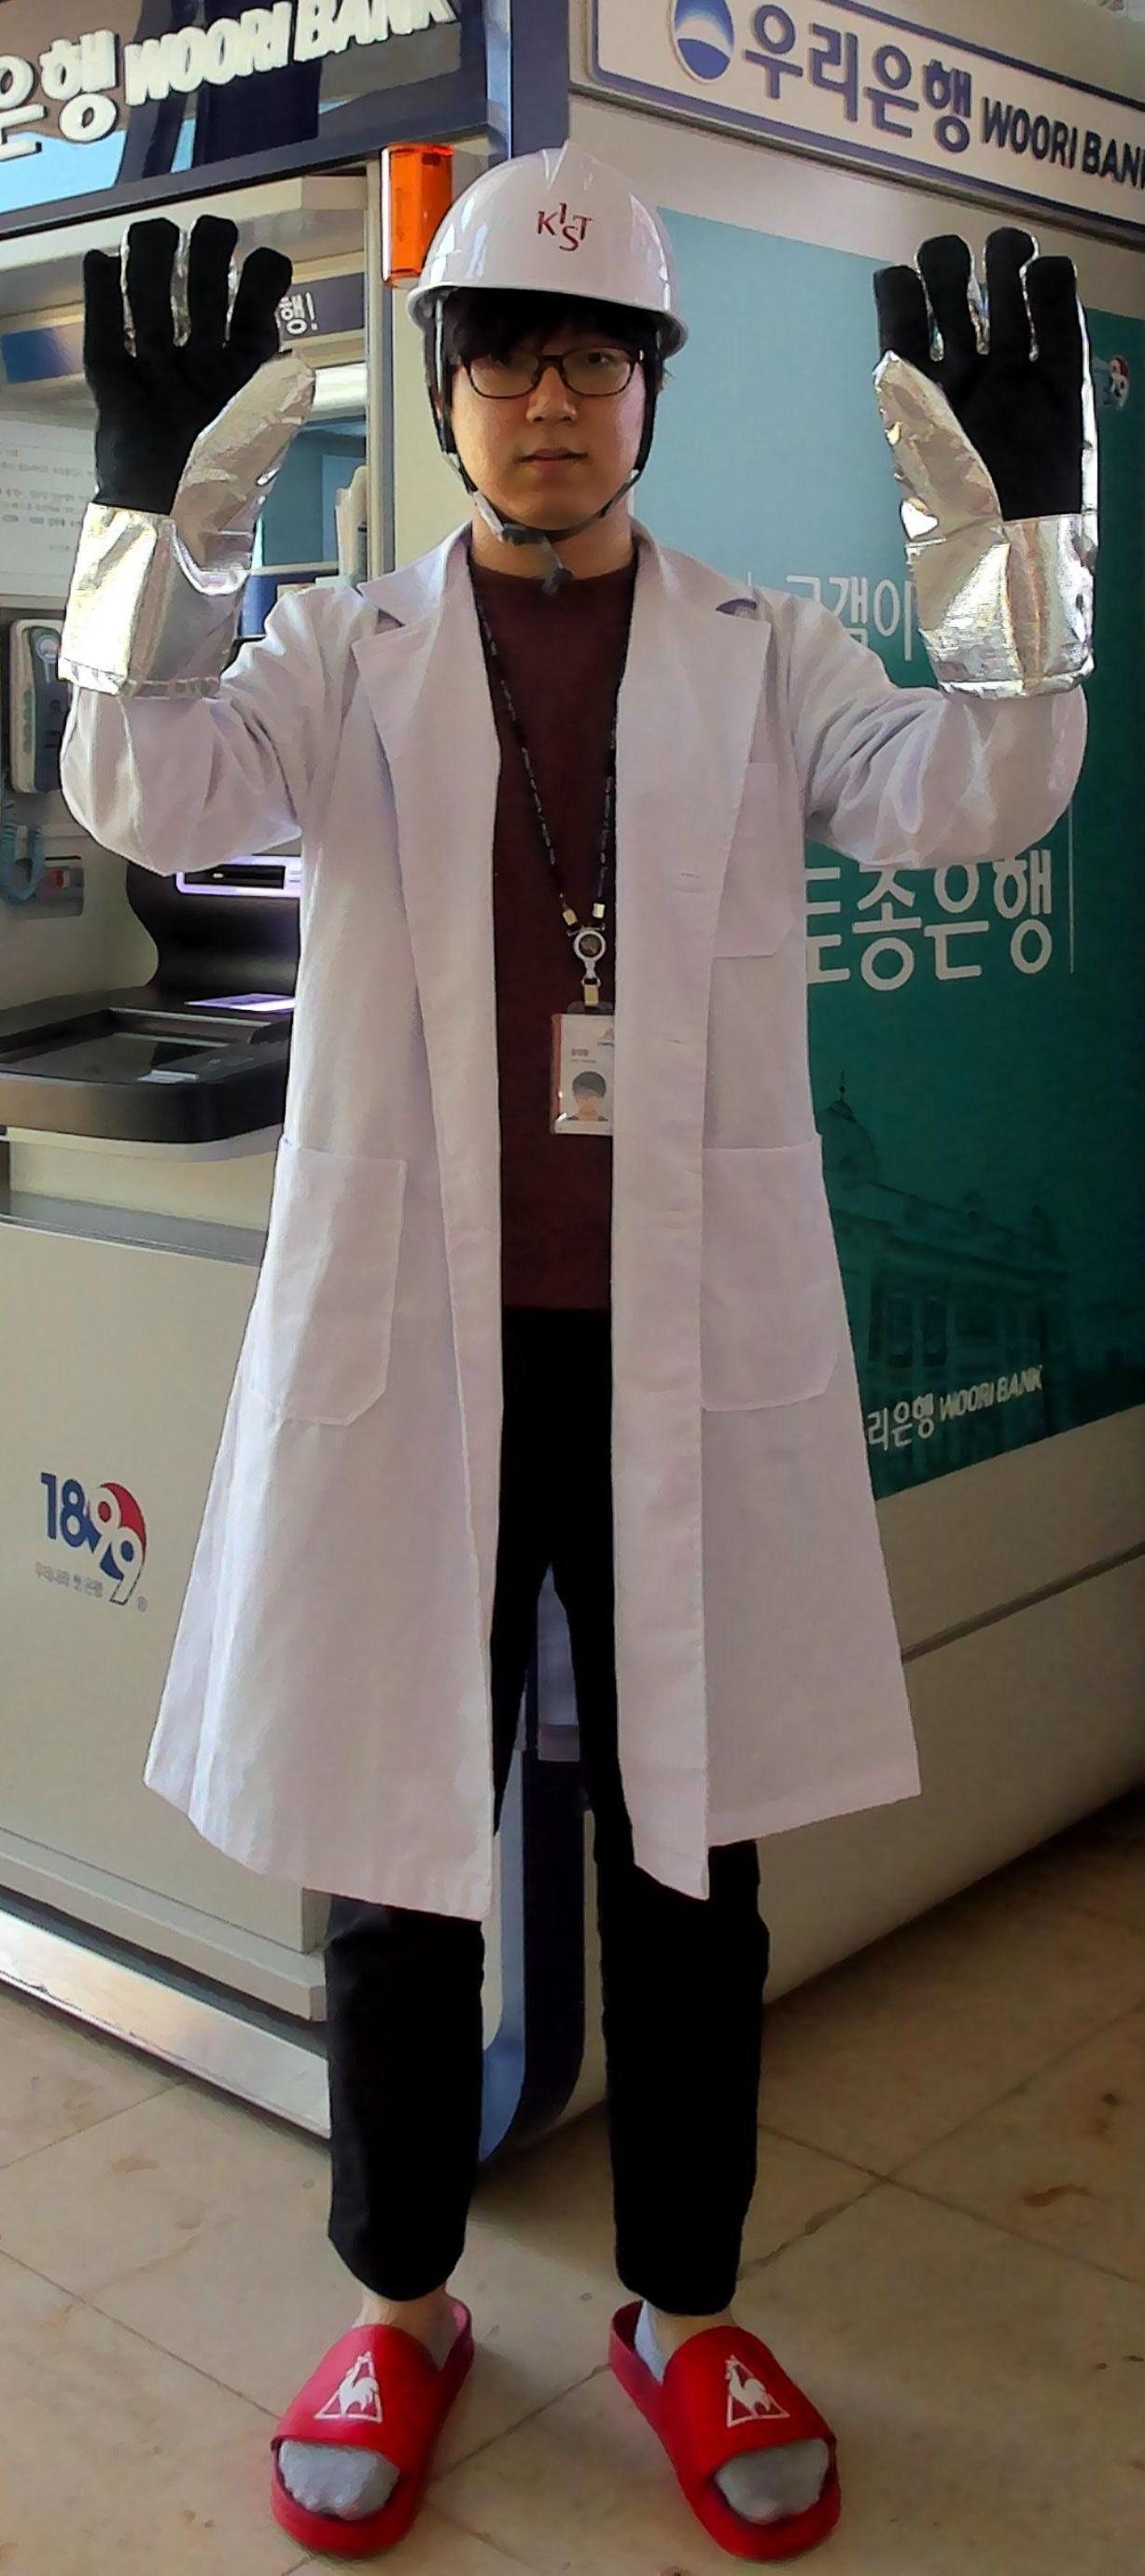lab_coat: (146, 621, 931, 1889)
